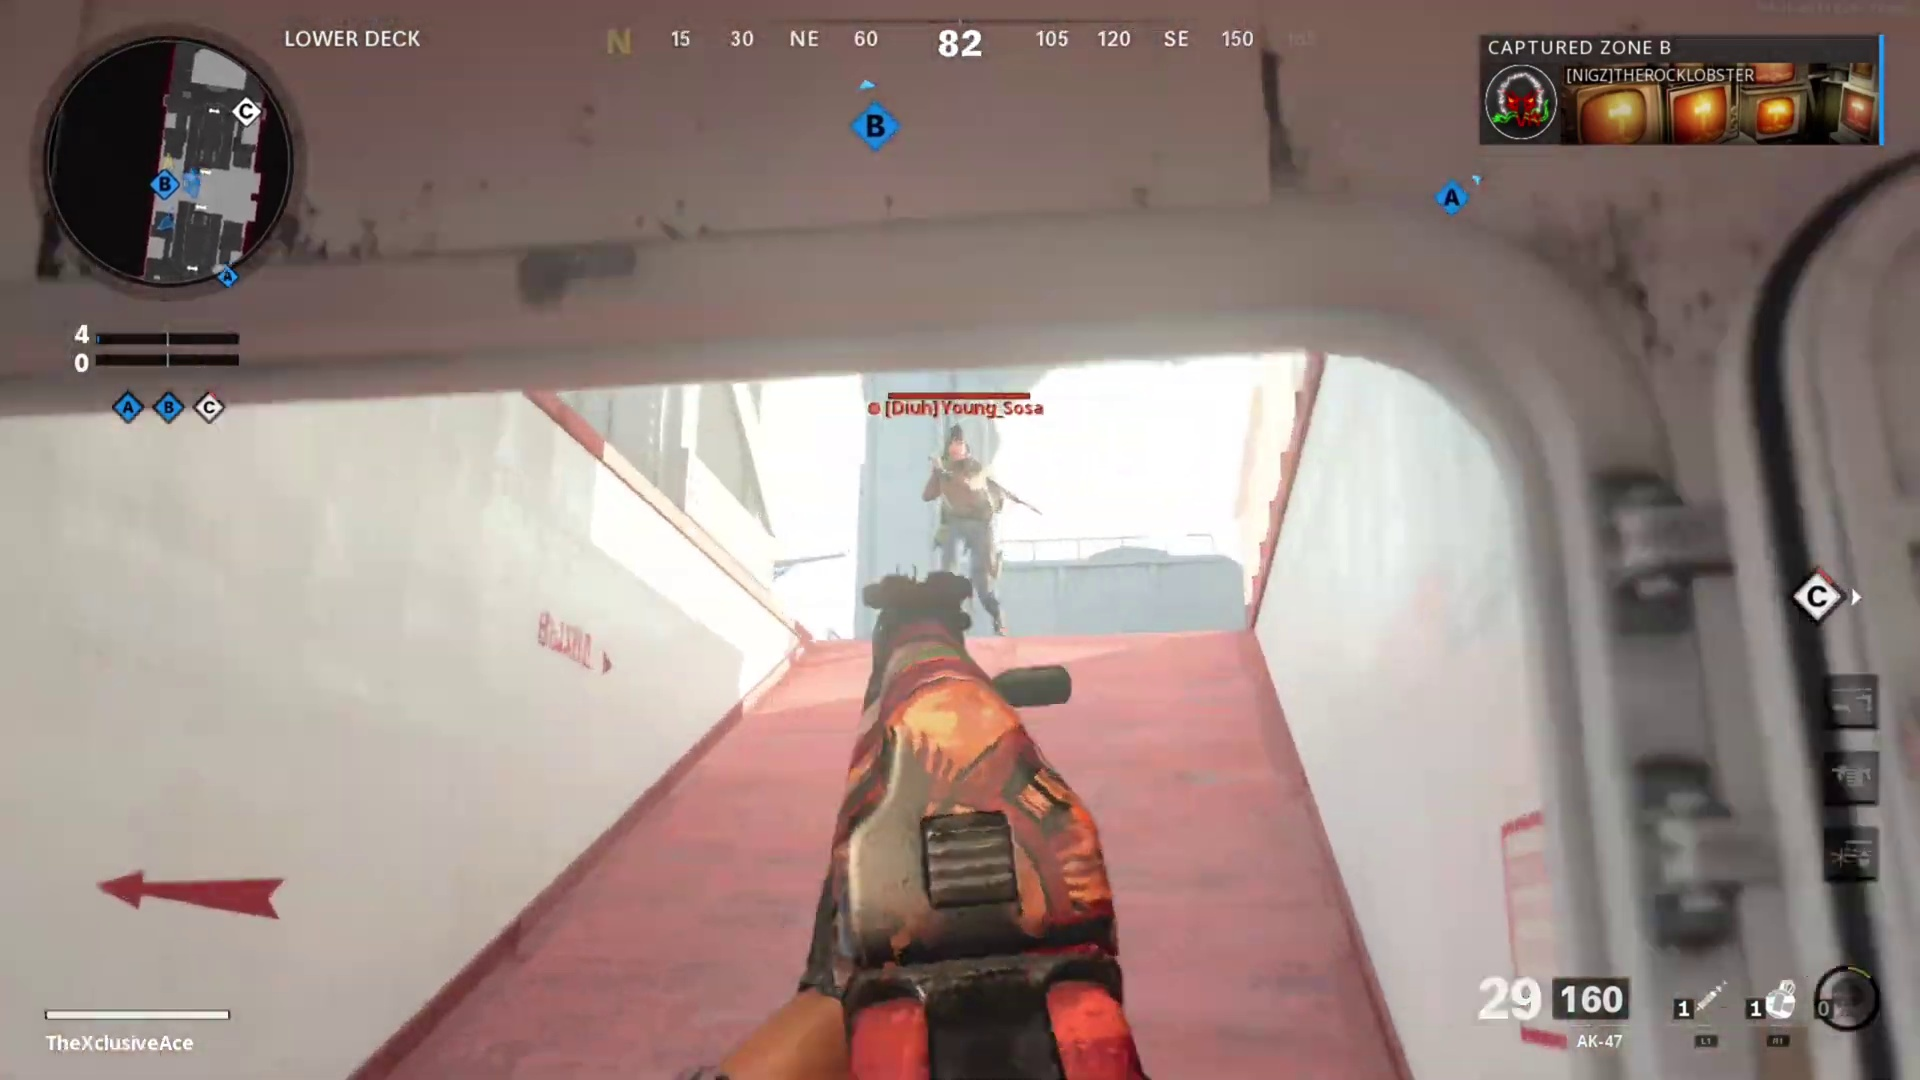head: (941, 428, 969, 463)
person: (918, 417, 1028, 631)
